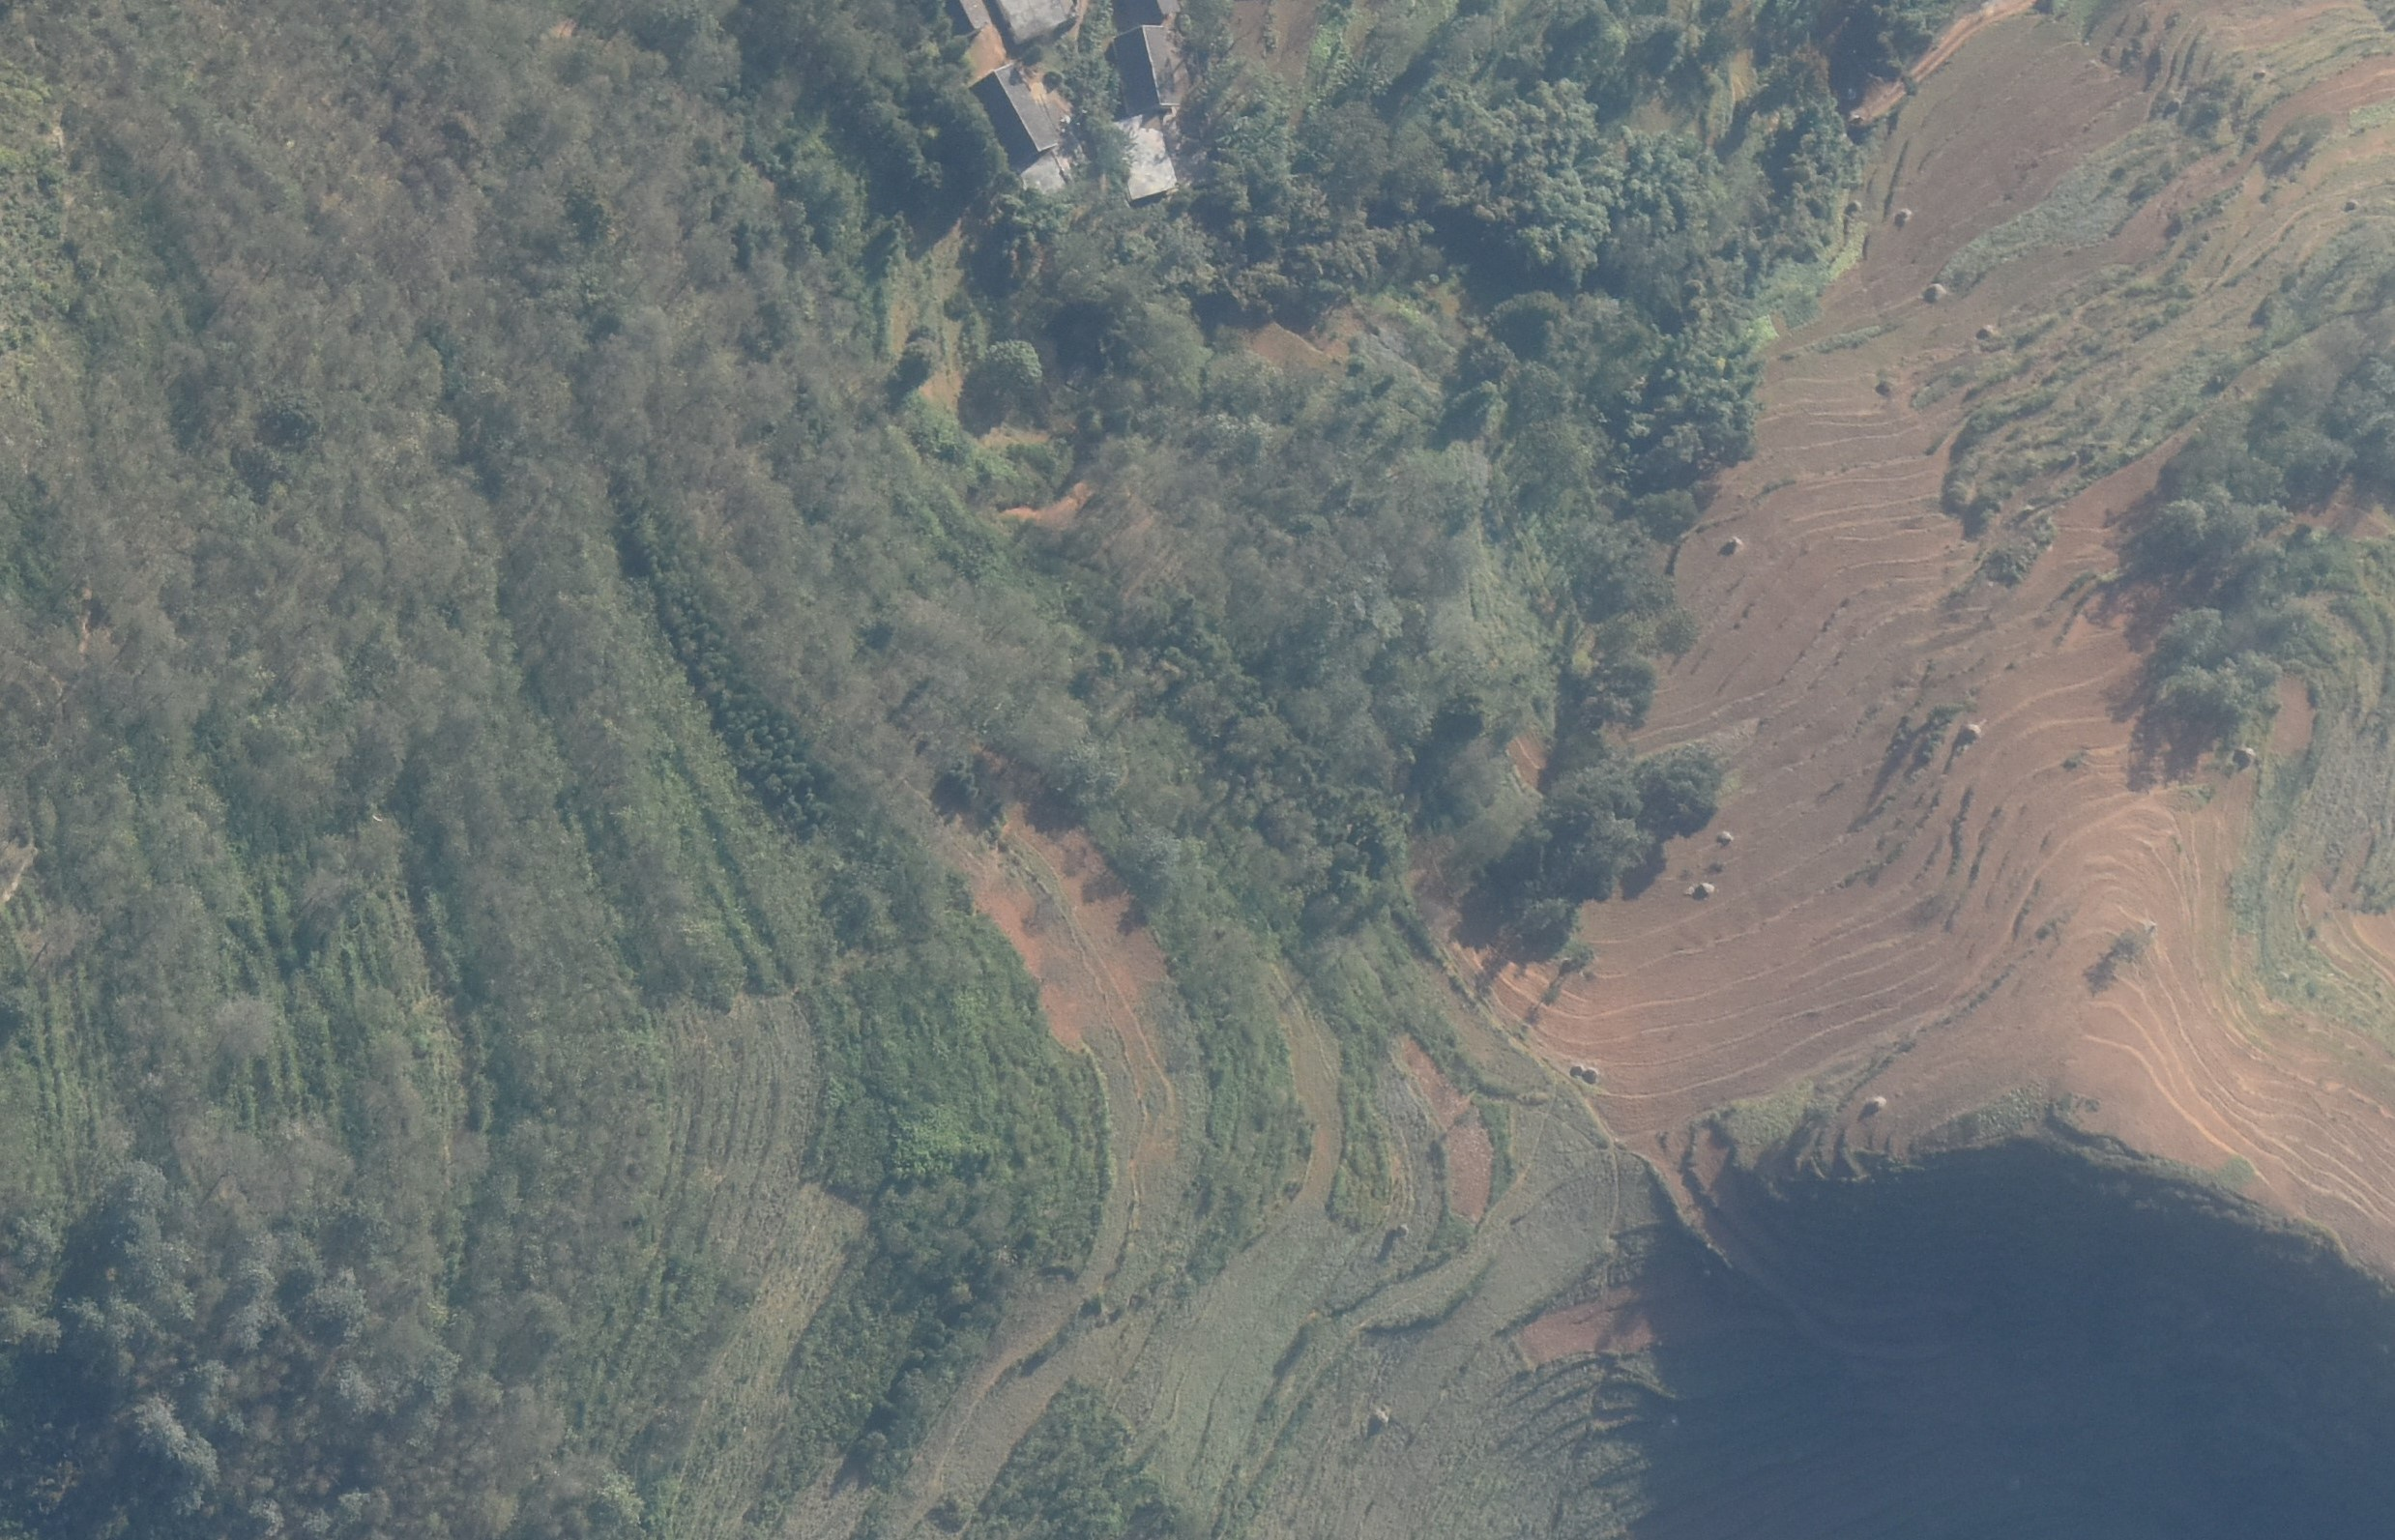building: (974, 61, 1060, 162), (1107, 112, 1177, 201), (1115, 24, 1178, 115)
